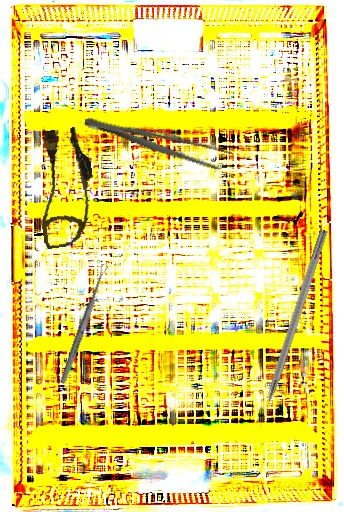Cannula: (29, 125, 102, 250)
Dressing Forceps: (81, 109, 235, 175)
Hook Surgical: (253, 228, 330, 431)
Surgical Spoon: (58, 263, 110, 385)
